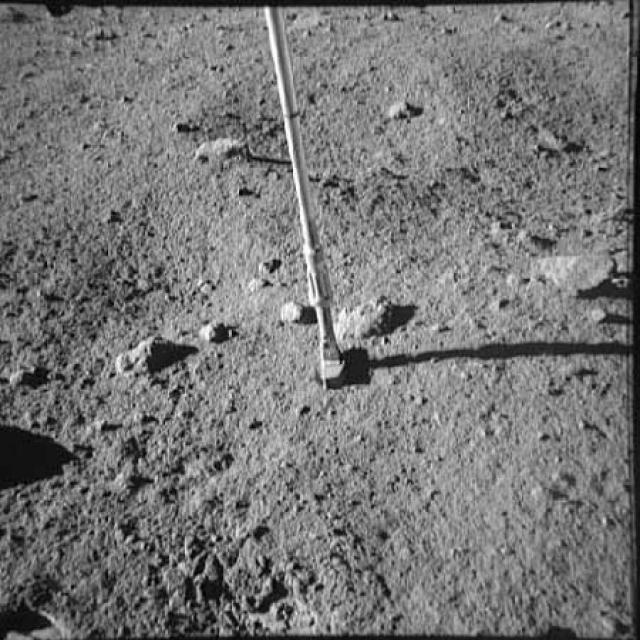rock: (527, 248, 610, 300), (110, 327, 189, 379), (332, 290, 402, 341), (182, 133, 253, 162), (531, 124, 583, 160), (109, 458, 145, 502), (3, 364, 43, 392), (269, 301, 308, 328), (380, 97, 418, 121), (196, 317, 228, 345), (558, 358, 592, 380), (589, 304, 617, 326), (128, 407, 150, 431)
